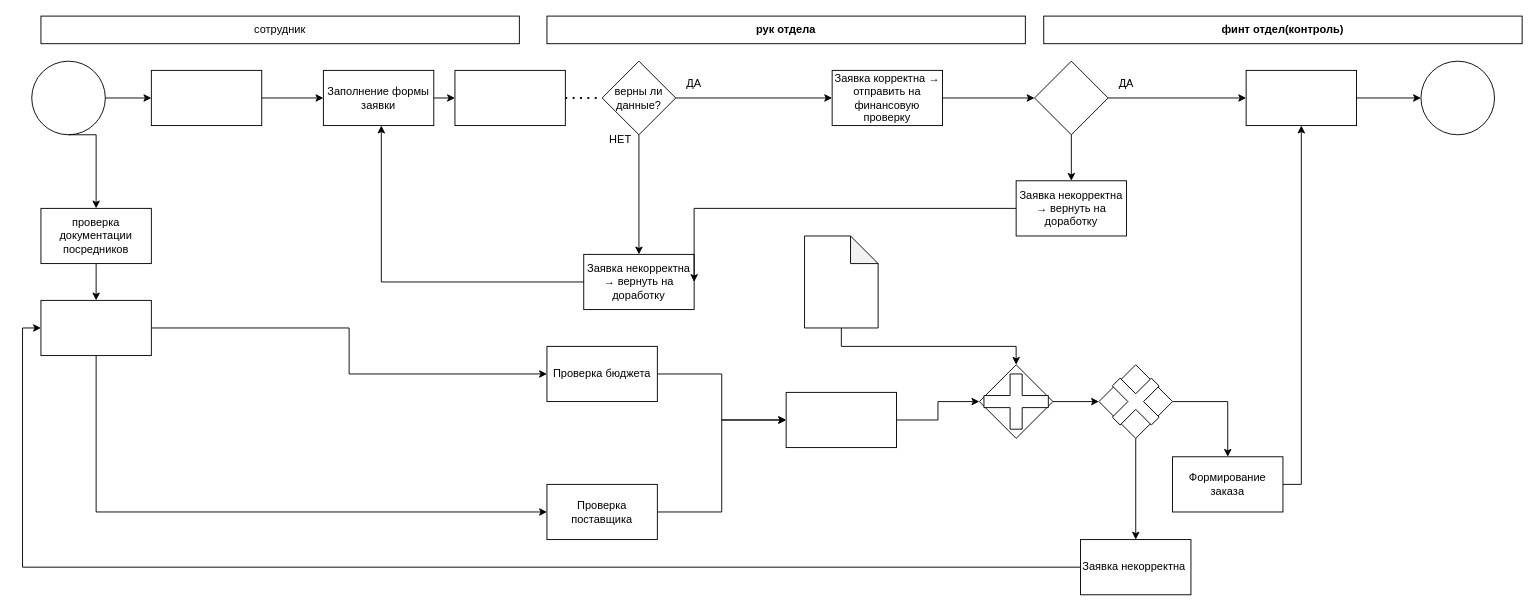
Image size: 1538x611. Some labels were removed from this diagram. Here are the shapes that lost their labels. From the top down, the centre of each, then its label:
(206,97): Получение запроса на закупку
(509,97): Отправка заявки руководителю
(1071,97): финансовая проверка
(1301,97): закупка
(841,281): документация поставщиков
(95,327): Запуск двух проверок одновременно
(841,419): Ожидание завершения обеих проверок
